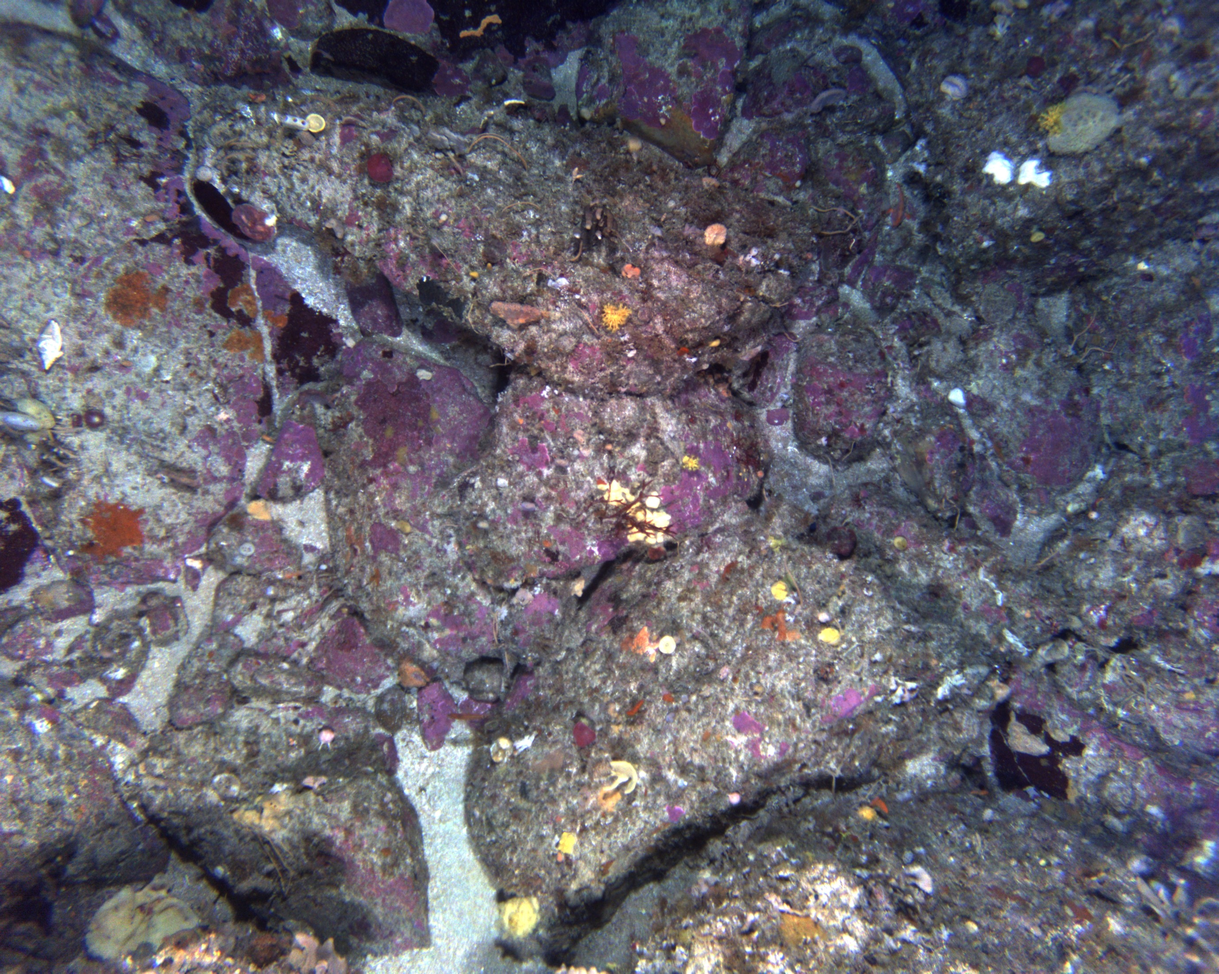Brachionichthyidae: (881, 181, 913, 231)
